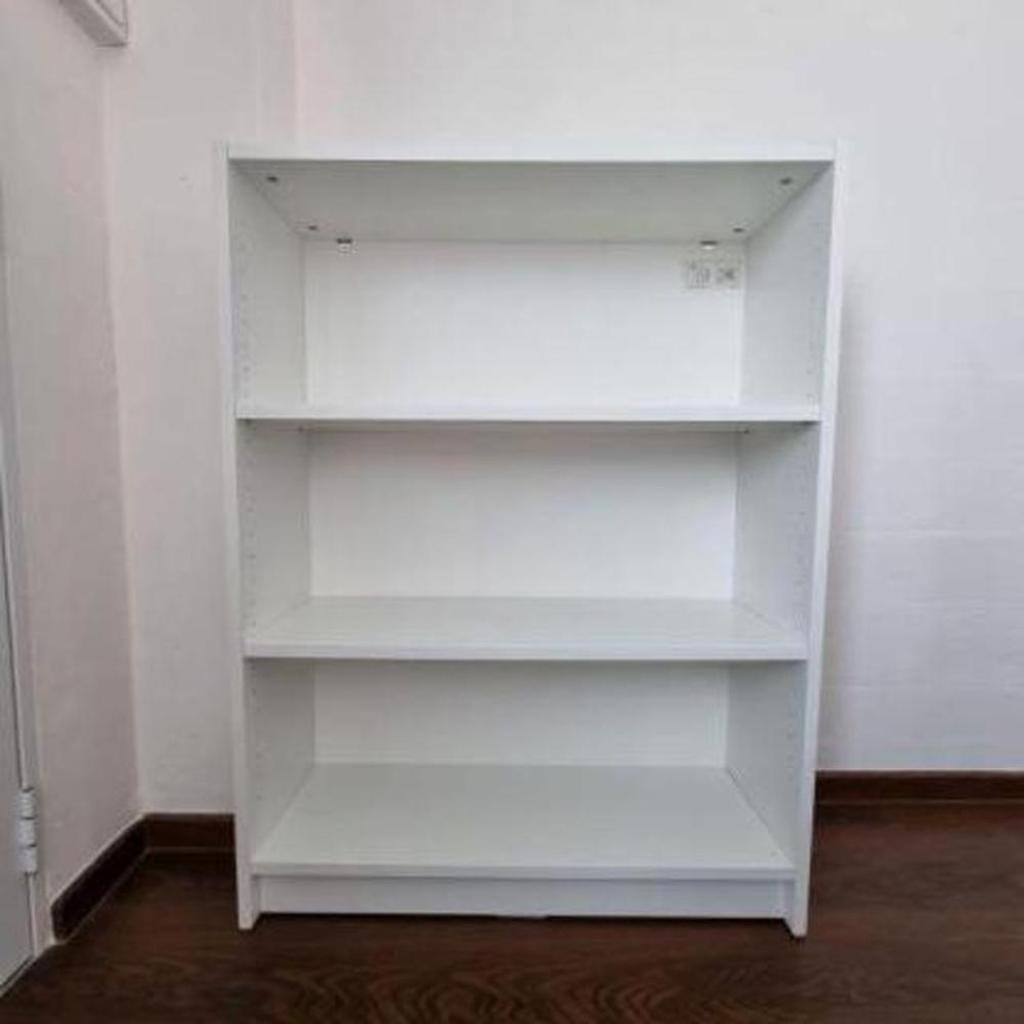lamp: (211, 137, 847, 942)
